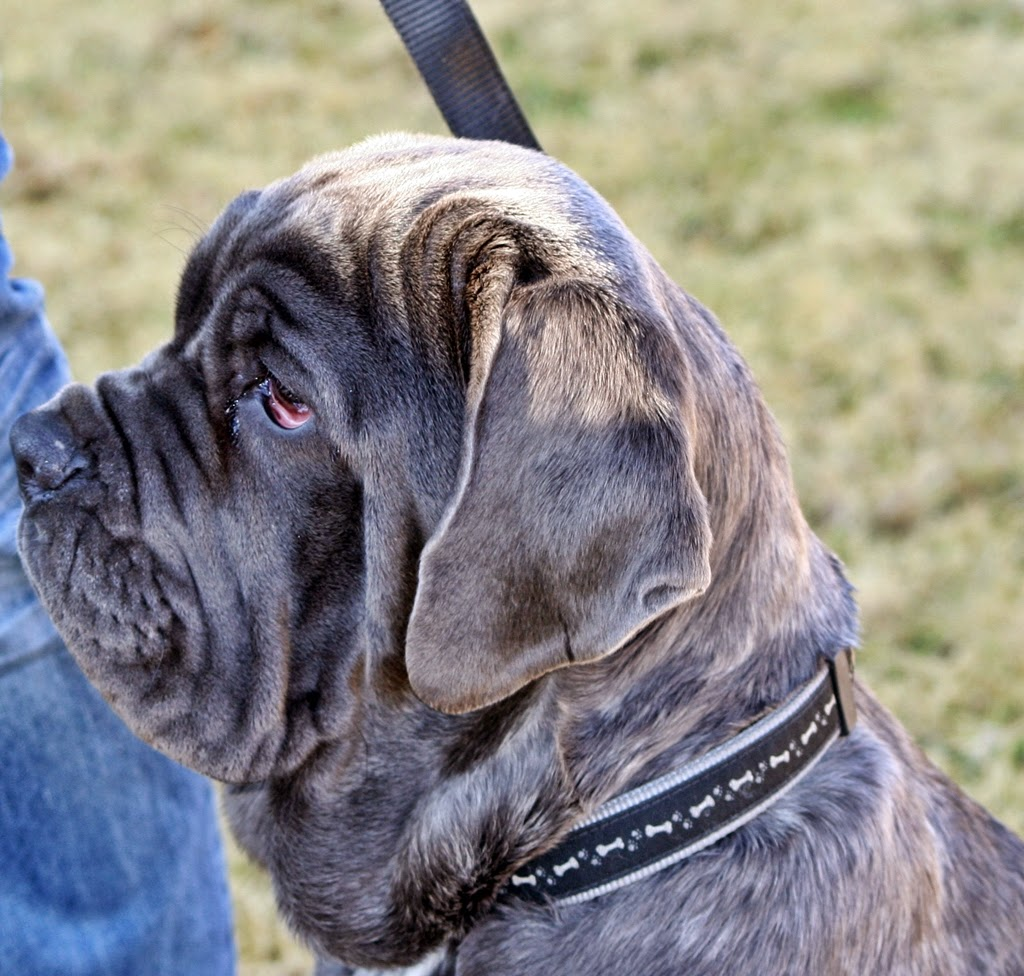neapolitan_mastiff: (10, 128, 1024, 976)
